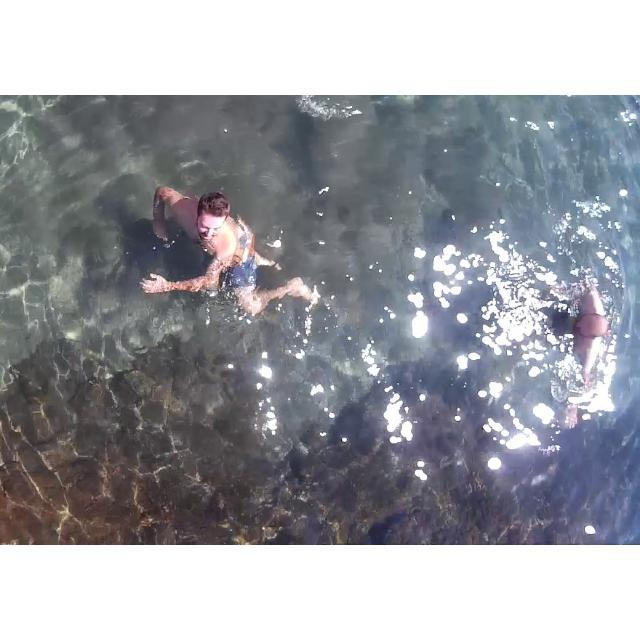human: (145, 172, 310, 321), (541, 272, 619, 369)
